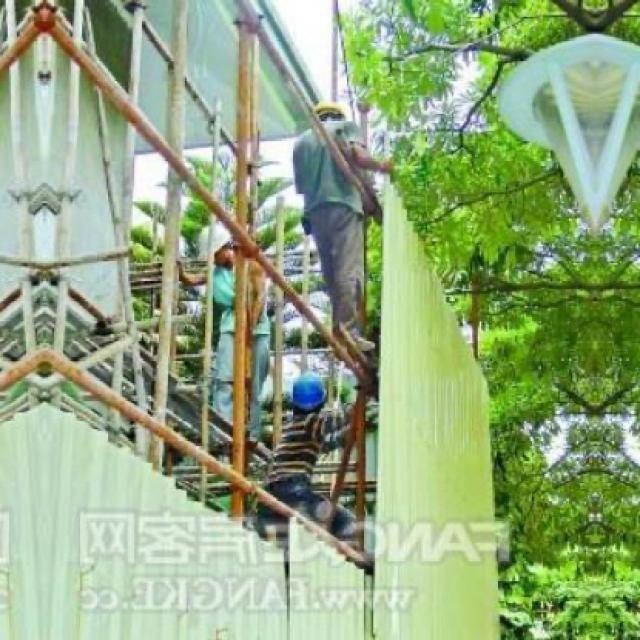helmet: (288, 366, 335, 416), (196, 223, 236, 271), (307, 96, 345, 136)
